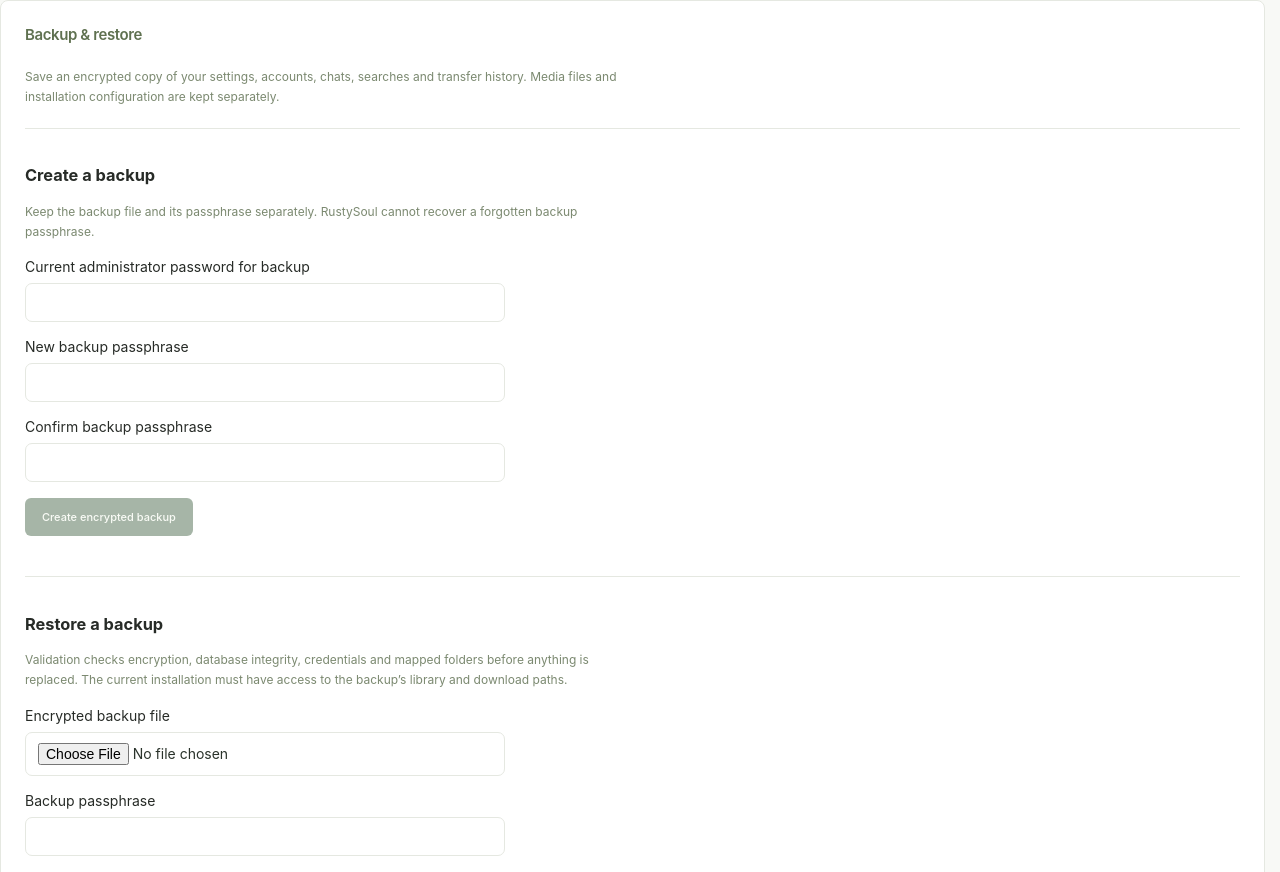
Test case: creates a password-confirmed encrypted download without buffering it as a browser blob
In the password field labelled "Current administrator password for backup": (265, 303) [25,283,505,322], type "admin-password"
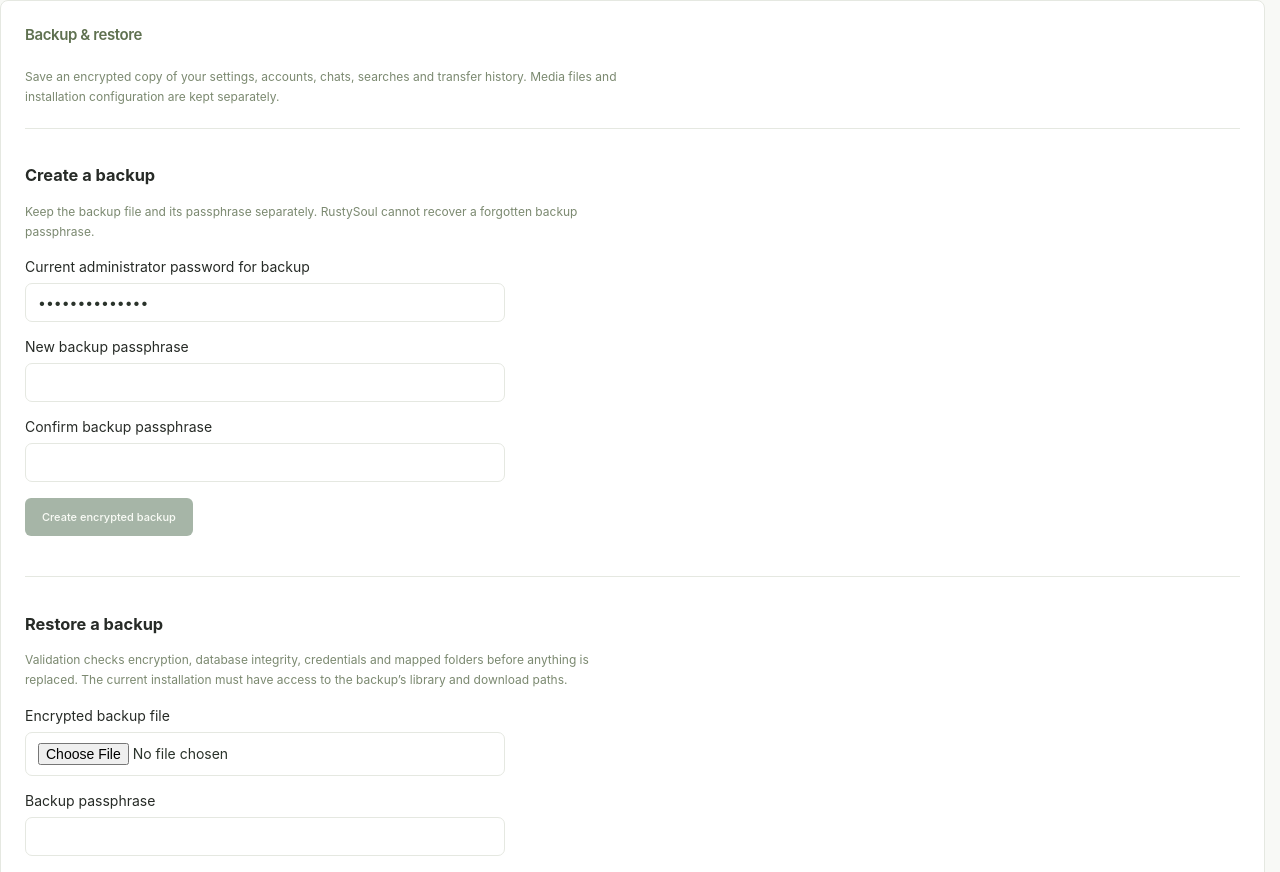
In the password field labelled "New backup passphrase": (265, 383) [25,363,505,402], type "backup-password"
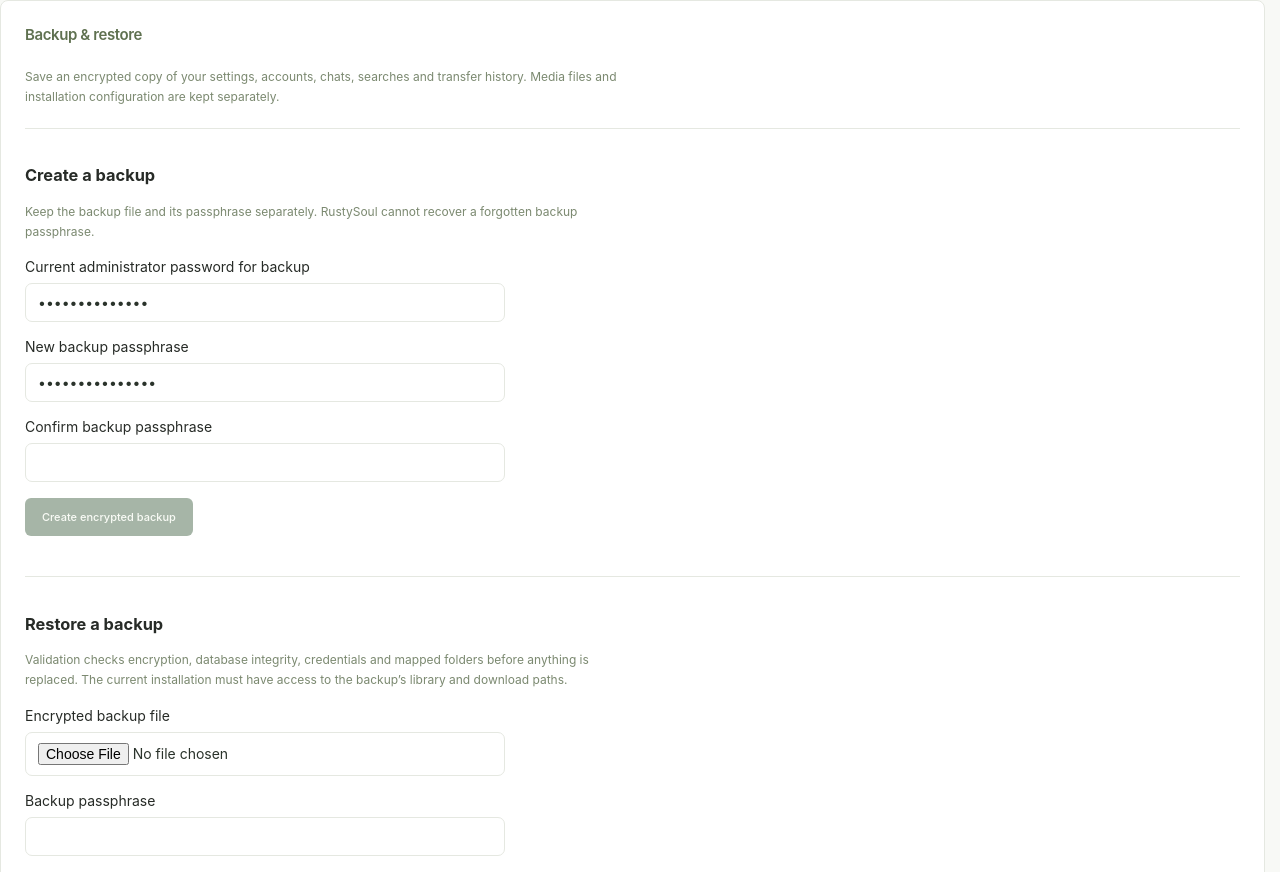
In the password field labelled "Confirm backup passphrase": (265, 463) [25,443,505,482], type "backup-password"
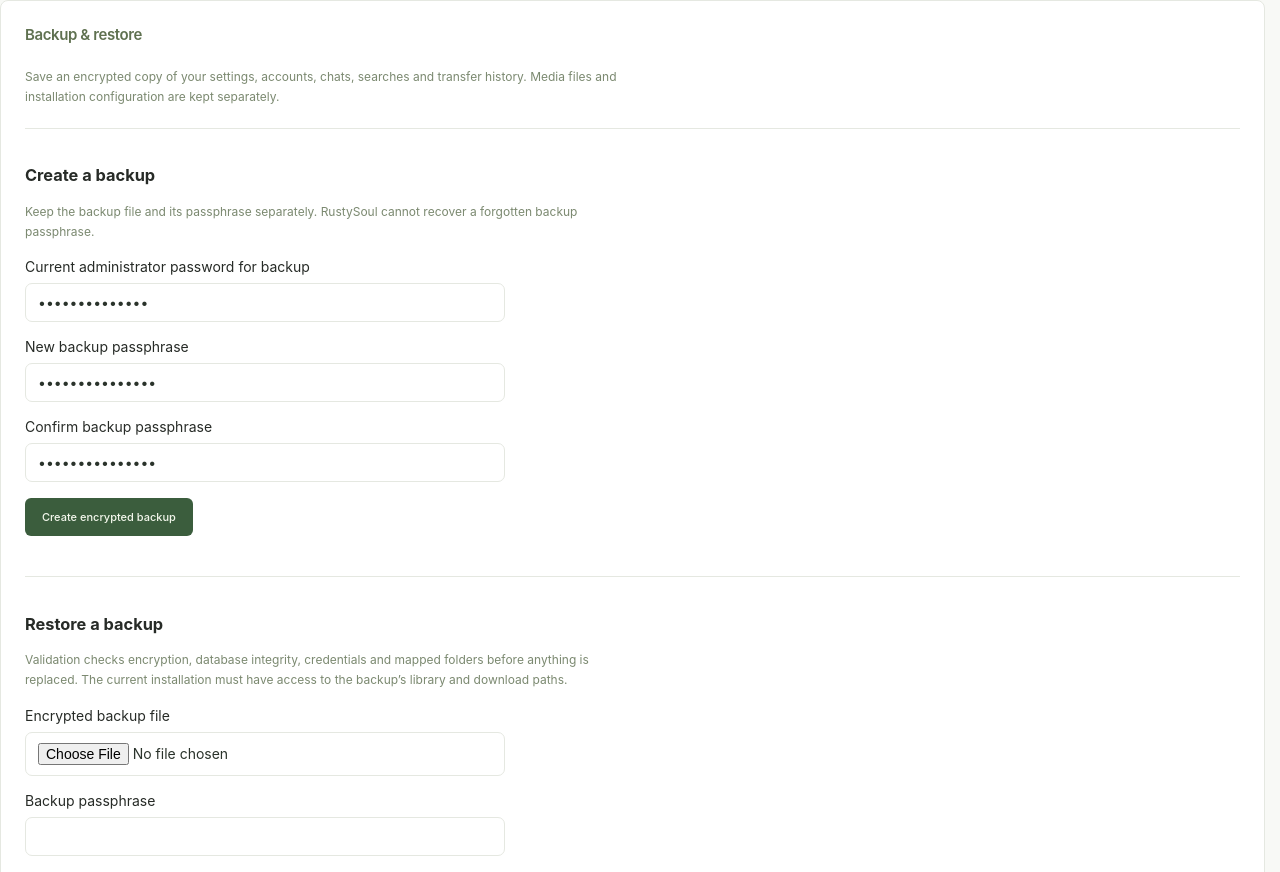
Click the button "Create encrypted backup": (109, 517) [25,498,193,536]
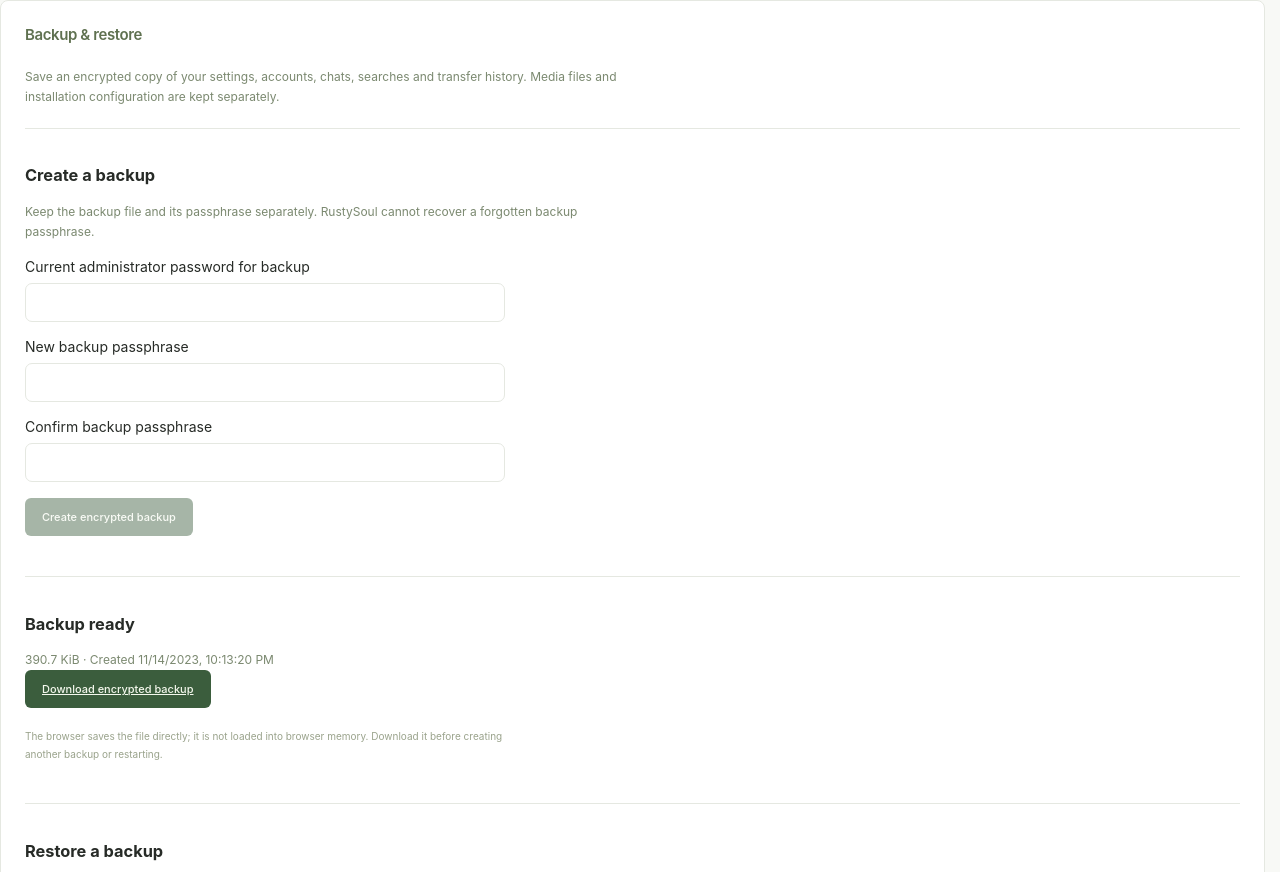
Expected: the password field labelled "New backup passphrase" is empty, [25,363,505,402]
